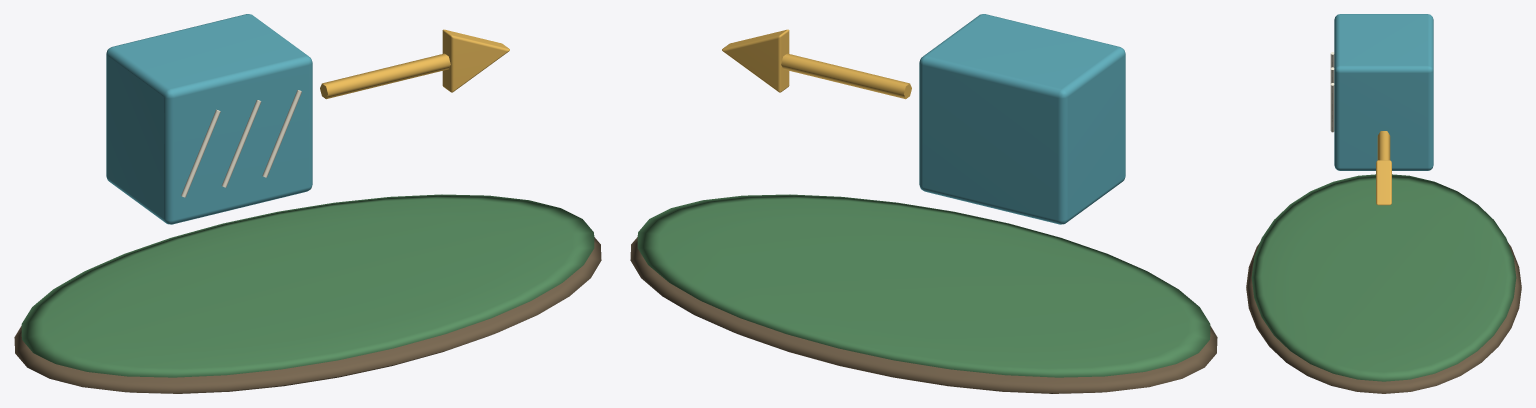
Rendered from quick-cool.glb.
3 renders of one model, left to right at view 1: azimuth 30°, elevation 25°; view 2: azimuth 150°, elevation 25°; view 3: azimuth 270°, elevation 25°, orthographic. The views are drawn at different scales.
Visible parts, largest first — view 1: quick-cool_surface_01, quick-cool_surface_02, quick-cool_surface_00, quick-cool_surface_04, quick-cool_surface_03; view 2: quick-cool_surface_01, quick-cool_surface_02, quick-cool_surface_00, quick-cool_surface_04; view 3: quick-cool_surface_01, quick-cool_surface_02, quick-cool_surface_00, quick-cool_surface_04, quick-cool_surface_03.
Boxes of the visible parts, bbox=[...] form: quick-cool_surface_01: bbox=[21, 194, 594, 377]; quick-cool_surface_02: bbox=[106, 14, 312, 224]; quick-cool_surface_00: bbox=[14, 237, 601, 393]; quick-cool_surface_04: bbox=[320, 29, 509, 99]; quick-cool_surface_03: bbox=[181, 90, 301, 197]; quick-cool_surface_01: bbox=[637, 194, 1210, 377]; quick-cool_surface_02: bbox=[919, 14, 1125, 224]; quick-cool_surface_00: bbox=[630, 237, 1217, 393]; quick-cool_surface_04: bbox=[722, 29, 911, 99]; quick-cool_surface_01: bbox=[1251, 174, 1516, 381]; quick-cool_surface_02: bbox=[1334, 14, 1433, 170]; quick-cool_surface_00: bbox=[1246, 242, 1521, 393]; quick-cool_surface_04: bbox=[1376, 131, 1391, 205]; quick-cool_surface_03: bbox=[1330, 52, 1334, 132].
Size of the model in its own units: 4.56 by 2.24 by 2.5.
